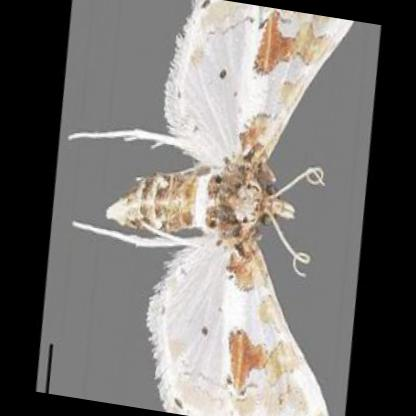leucinodes: (79, 4, 350, 416)
